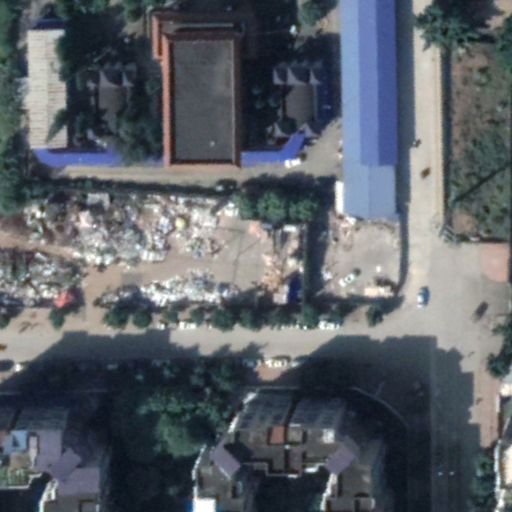msw: (8, 196, 233, 301)
